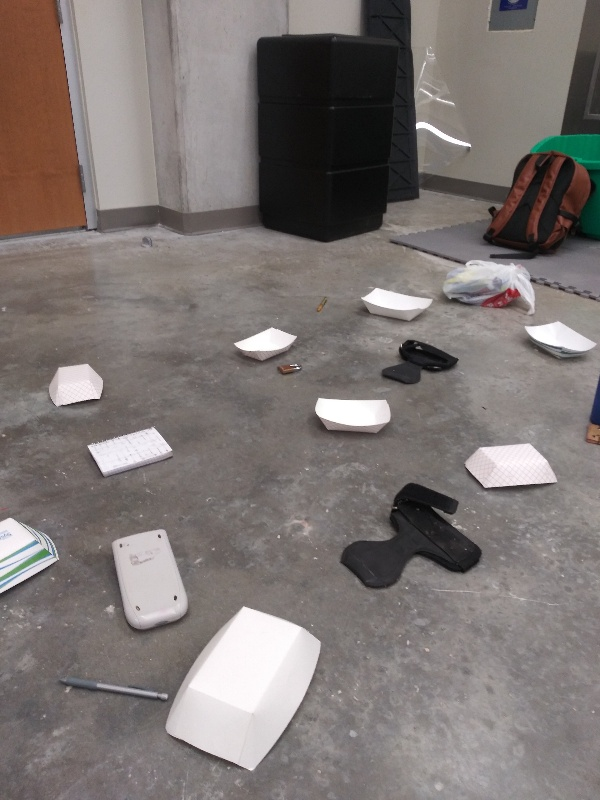plate: (161, 603, 326, 777), (1, 512, 61, 606), (460, 437, 560, 492), (516, 320, 598, 366), (43, 355, 109, 411), (311, 396, 394, 437), (356, 283, 438, 324), (230, 324, 300, 363)
